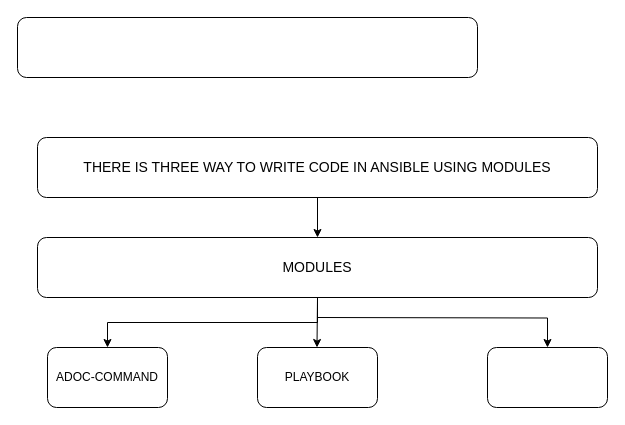
The diagram is 625 pixels wide and 425 high, and some of its shapes have lost their labels. The shapes that lost their labels are listed below. From the top down, each one's box as (x1, y1, x2, y2) in pixels, then its label:
(16, 16, 478, 78): THIS IS DEFAULT LOCATION WHERE WE ARE CREATEING ROLES /etc/ansible/roles
(486, 346, 608, 408): ROLES
